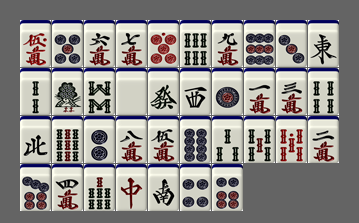0m: (20, 20, 51, 67)
0p: (148, 20, 179, 67)
0s: (276, 116, 307, 163)
1m: (244, 68, 275, 115)
1p: (212, 68, 243, 115)
1s: (52, 68, 83, 115)
1z: (308, 20, 339, 67)
2m: (308, 116, 339, 163)
2p: (84, 116, 115, 163)
2s: (20, 68, 51, 115)
2z: (148, 164, 179, 211)
3m: (276, 68, 307, 115)
3p: (276, 20, 307, 67)
3s: (212, 116, 243, 163)
3z: (180, 68, 211, 115)
4m: (52, 164, 83, 211)
4p: (180, 164, 211, 211)
4s: (308, 68, 339, 115)
4z: (20, 116, 51, 163)
5m: (148, 116, 179, 163)
5p: (52, 20, 83, 67)
5s: (244, 116, 275, 163)
5z: (116, 68, 147, 115)
6m: (84, 20, 115, 67)
6p: (212, 164, 243, 211)
6s: (180, 20, 211, 67)
6z: (148, 68, 179, 115)
7m: (116, 20, 147, 67)
7p: (20, 164, 51, 211)
7s: (84, 164, 115, 211)
7z: (116, 164, 147, 211)
8m: (116, 116, 147, 163)
8p: (180, 116, 211, 163)
8s: (84, 68, 115, 115)
9m: (212, 20, 243, 67)
9p: (244, 20, 275, 67)
9s: (52, 116, 83, 163)
